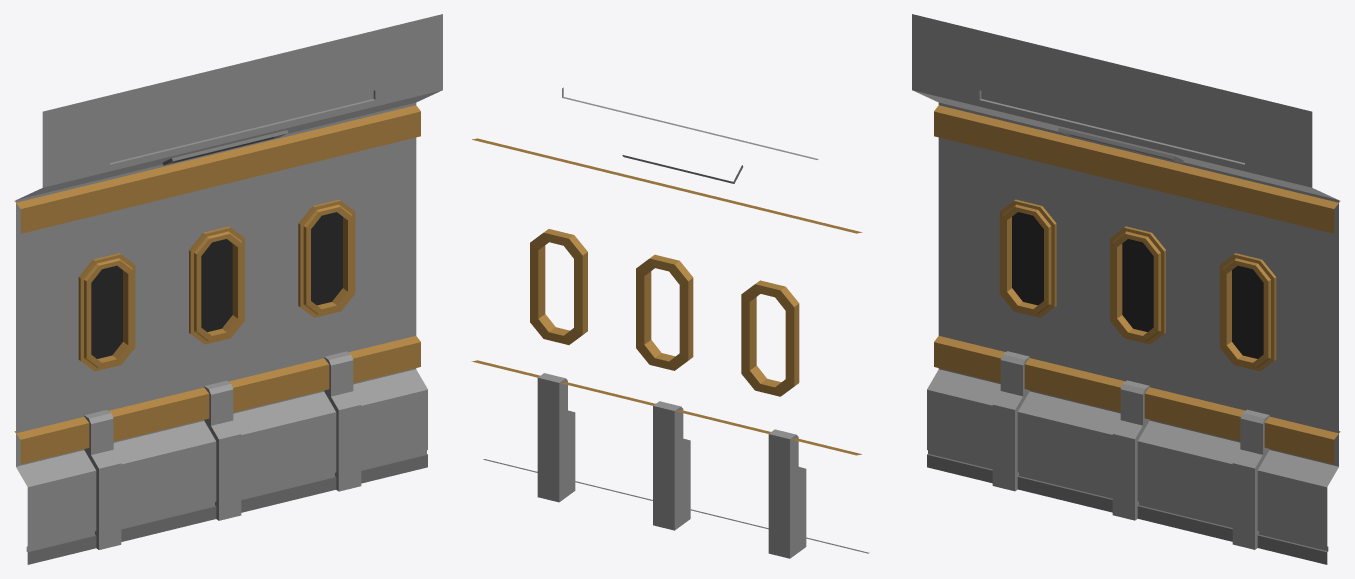
File: ThreeWindows_Wall_SideB.glb
3 renders of one model, left to right at view 1: azimuth 30°, elevation 25°; view 2: azimuth 150°, elevation 25°; view 3: azimuth 330°, elevation 25°, orthographic. The views are drawn at different scales.
Visible parts, largest first — view 1: ThreeWindows_Wall_SideB_Plane.036; view 2: ThreeWindows_Wall_SideB_Plane.036; view 3: ThreeWindows_Wall_SideB_Plane.036.
Part boxes in pixels (x1=…): ThreeWindows_Wall_SideB_Plane.036: x1=14, y1=14, x2=442, y2=564; ThreeWindows_Wall_SideB_Plane.036: x1=471, y1=87, x2=869, y2=558; ThreeWindows_Wall_SideB_Plane.036: x1=912, y1=14, x2=1340, y2=564.
Bounding box in the file's own units: 4 × 4.43 × 0.5261.
